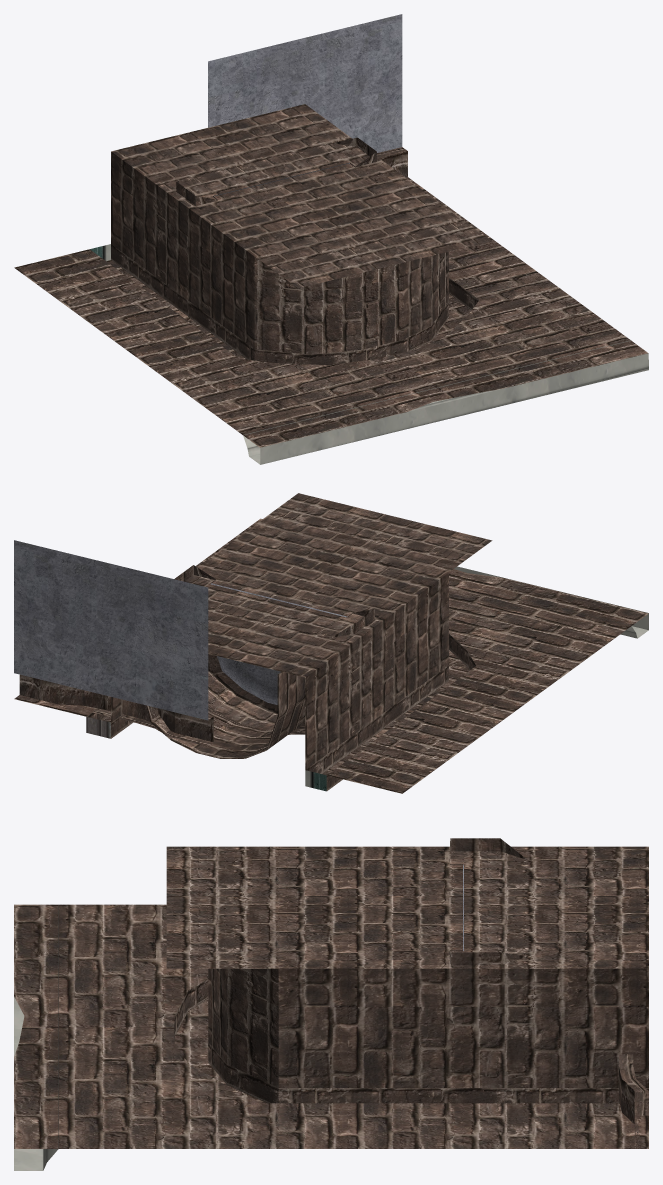
File: water.fbx
3 renders of one model, top to bottom at view 1: azimuth 30°, elevation 25°; view 2: azimuth 150°, elevation 25°; view 3: azimuth 270°, elevation 25°, orthographic. The views are drawn at different scales.
Visible parts, largest first — view 1: Brick_wall.005, road_1.002; view 2: Brick_wall.005, road_1.002; view 3: Brick_wall.005, road_1.002.
Part boxes in pixels (x1,y1,x2,y2): Brick_wall.005: (14,104,648,464); road_1.002: (208,14,407,177); Brick_wall.005: (14,493,648,793); road_1.002: (14,540,213,746); Brick_wall.005: (14,838,648,1170); road_1.002: (619,1054,648,1148).
Bounding box in the file's own units: 400 × 182 × 440.
